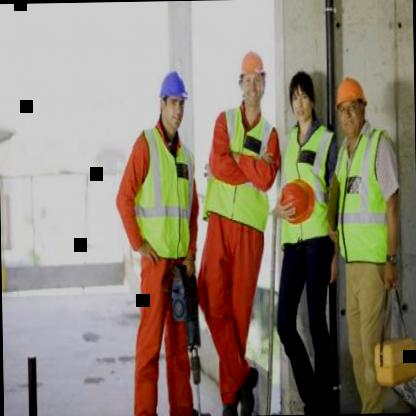head: (288, 68, 320, 126)
helmet: (154, 62, 190, 140), (332, 70, 371, 140), (236, 42, 268, 116)
